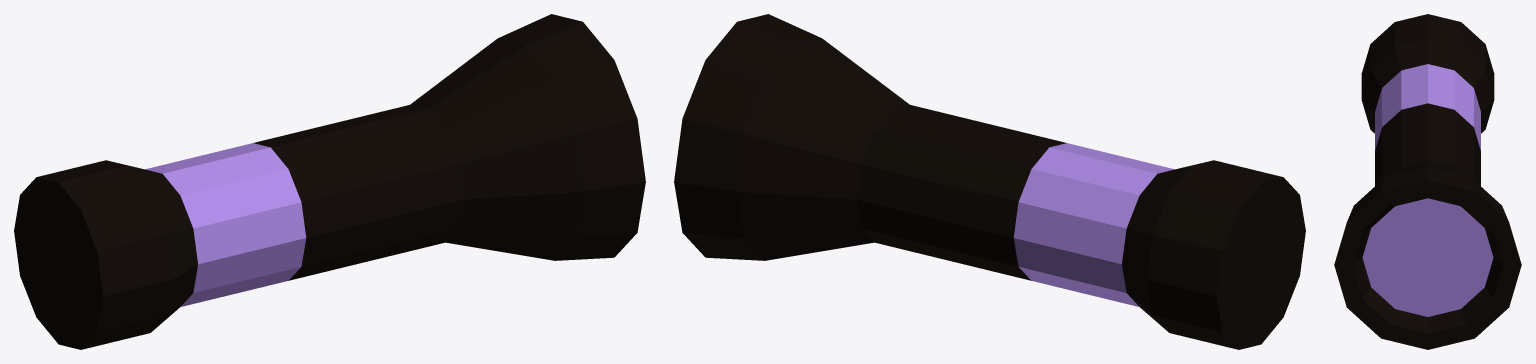
Rendered from Tool_UVFlashlight.fbx.
3 renders of one model, left to right at view 1: azimuth 30°, elevation 25°; view 2: azimuth 150°, elevation 25°; view 3: azimuth 270°, elevation 25°, orthographic. The views are drawn at different scales.
Visible parts, largest first — view 1: Cylinder; view 2: Cylinder; view 3: Cylinder.
Part boxes in pixels (box(x1,y1,x2,y2)): Cylinder: box(14, 14, 645, 349); Cylinder: box(674, 14, 1305, 349); Cylinder: box(1334, 14, 1521, 349).
Bounding box in the file's own units: 851 × 354 × 354.
